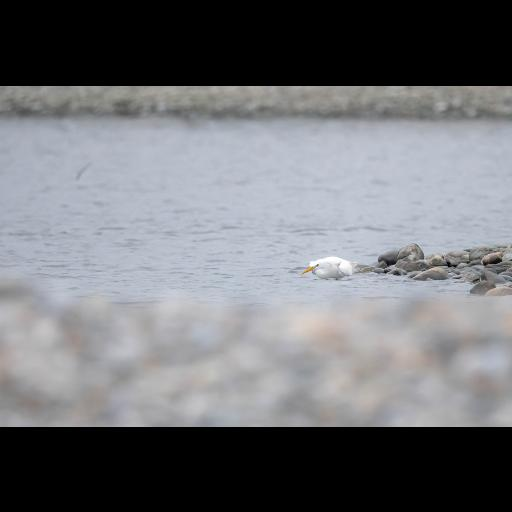chinese_egret: (302, 256, 360, 280)
